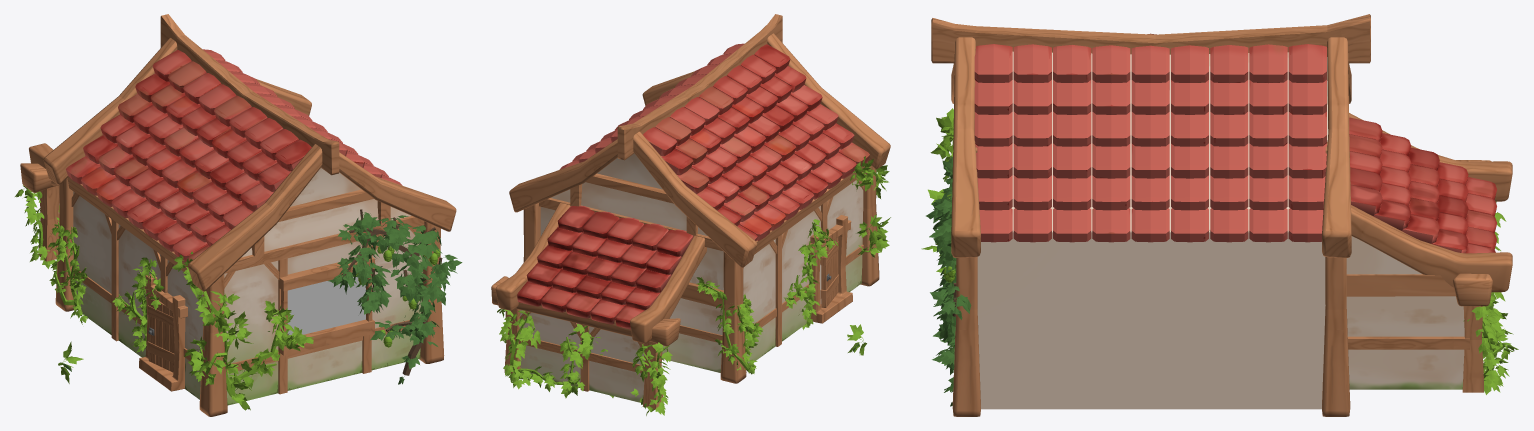
Rendered from House.fbx.
3 renders of one model, left to right at view 1: azimuth 30°, elevation 25°; view 2: azimuth 150°, elevation 25°; view 3: azimuth 270°, elevation 25°, orthographic. The views are drawn at different scales.
Parts seen in each view (by area): view 1: Roof, Cube.030, Cube.031, Cube.033, Cube.034, Cube.032, Cube.036, Cube.059, Cube.018, Wood2, Wood1, Vert.002 (+6 smaller); view 2: Roof, Cube.030, Cube.014, Cube.031, Cube.034, Cube.038, Cube.032, Cube.059, Cube.036, Cube.013, Wood1, Wood2 (+6 smaller); view 3: Cube.030, Roof, Cube.014, Cube.031, Cube.032, Cube.034, Cube.038, Cube.015, Cube.037, Wood1, Cube.013.
Boxes of the visible parts, <box> form: Roof: <box>66,49,402,261</box>; Cube.030: <box>58,168,422,405</box>; Cube.031: <box>43,38,456,291</box>; Cube.033: <box>279,257,374,355</box>; Cube.034: <box>55,178,444,416</box>; Cube.032: <box>160,14,339,175</box>; Cube.036: <box>224,189,424,273</box>; Cube.059: <box>139,274,187,391</box>; Cube.018: <box>147,297,174,372</box>; Wood2: <box>67,176,187,271</box>; Wood1: <box>38,185,59,261</box>; Vert.002: <box>187,266,296,410</box>; Roof: <box>559,43,869,240</box>; Cube.030: <box>519,153,863,402</box>; Cube.014: <box>517,205,693,329</box>; Cube.031: <box>509,33,890,267</box>; Cube.034: <box>523,166,879,383</box>; Cube.038: <box>495,203,706,343</box>; Cube.032: <box>617,14,782,160</box>; Cube.059: <box>807,215,852,323</box>; Cube.036: <box>539,173,723,251</box>; Cube.013: <box>491,276,680,346</box>; Wood1: <box>504,308,663,409</box>; Wood2: <box>754,161,867,254</box>; Cube.030: <box>977,51,1464,409</box>; Roof: <box>974,33,1326,242</box>; Cube.014: <box>1349,117,1496,253</box>; Cube.031: <box>951,37,1351,257</box>; Cube.032: <box>931,14,1370,63</box>; Cube.034: <box>952,257,1350,416</box>; Cube.038: <box>1349,113,1512,292</box>; Cube.015: <box>1346,274,1455,296</box>; Cube.037: <box>1347,336,1469,349</box>; Wood1: <box>1462,306,1483,392</box>; Cube.013: <box>1453,160,1492,306</box>.
Size of what is drawn, in the model's own units: 6636 by 5442 by 8520.
